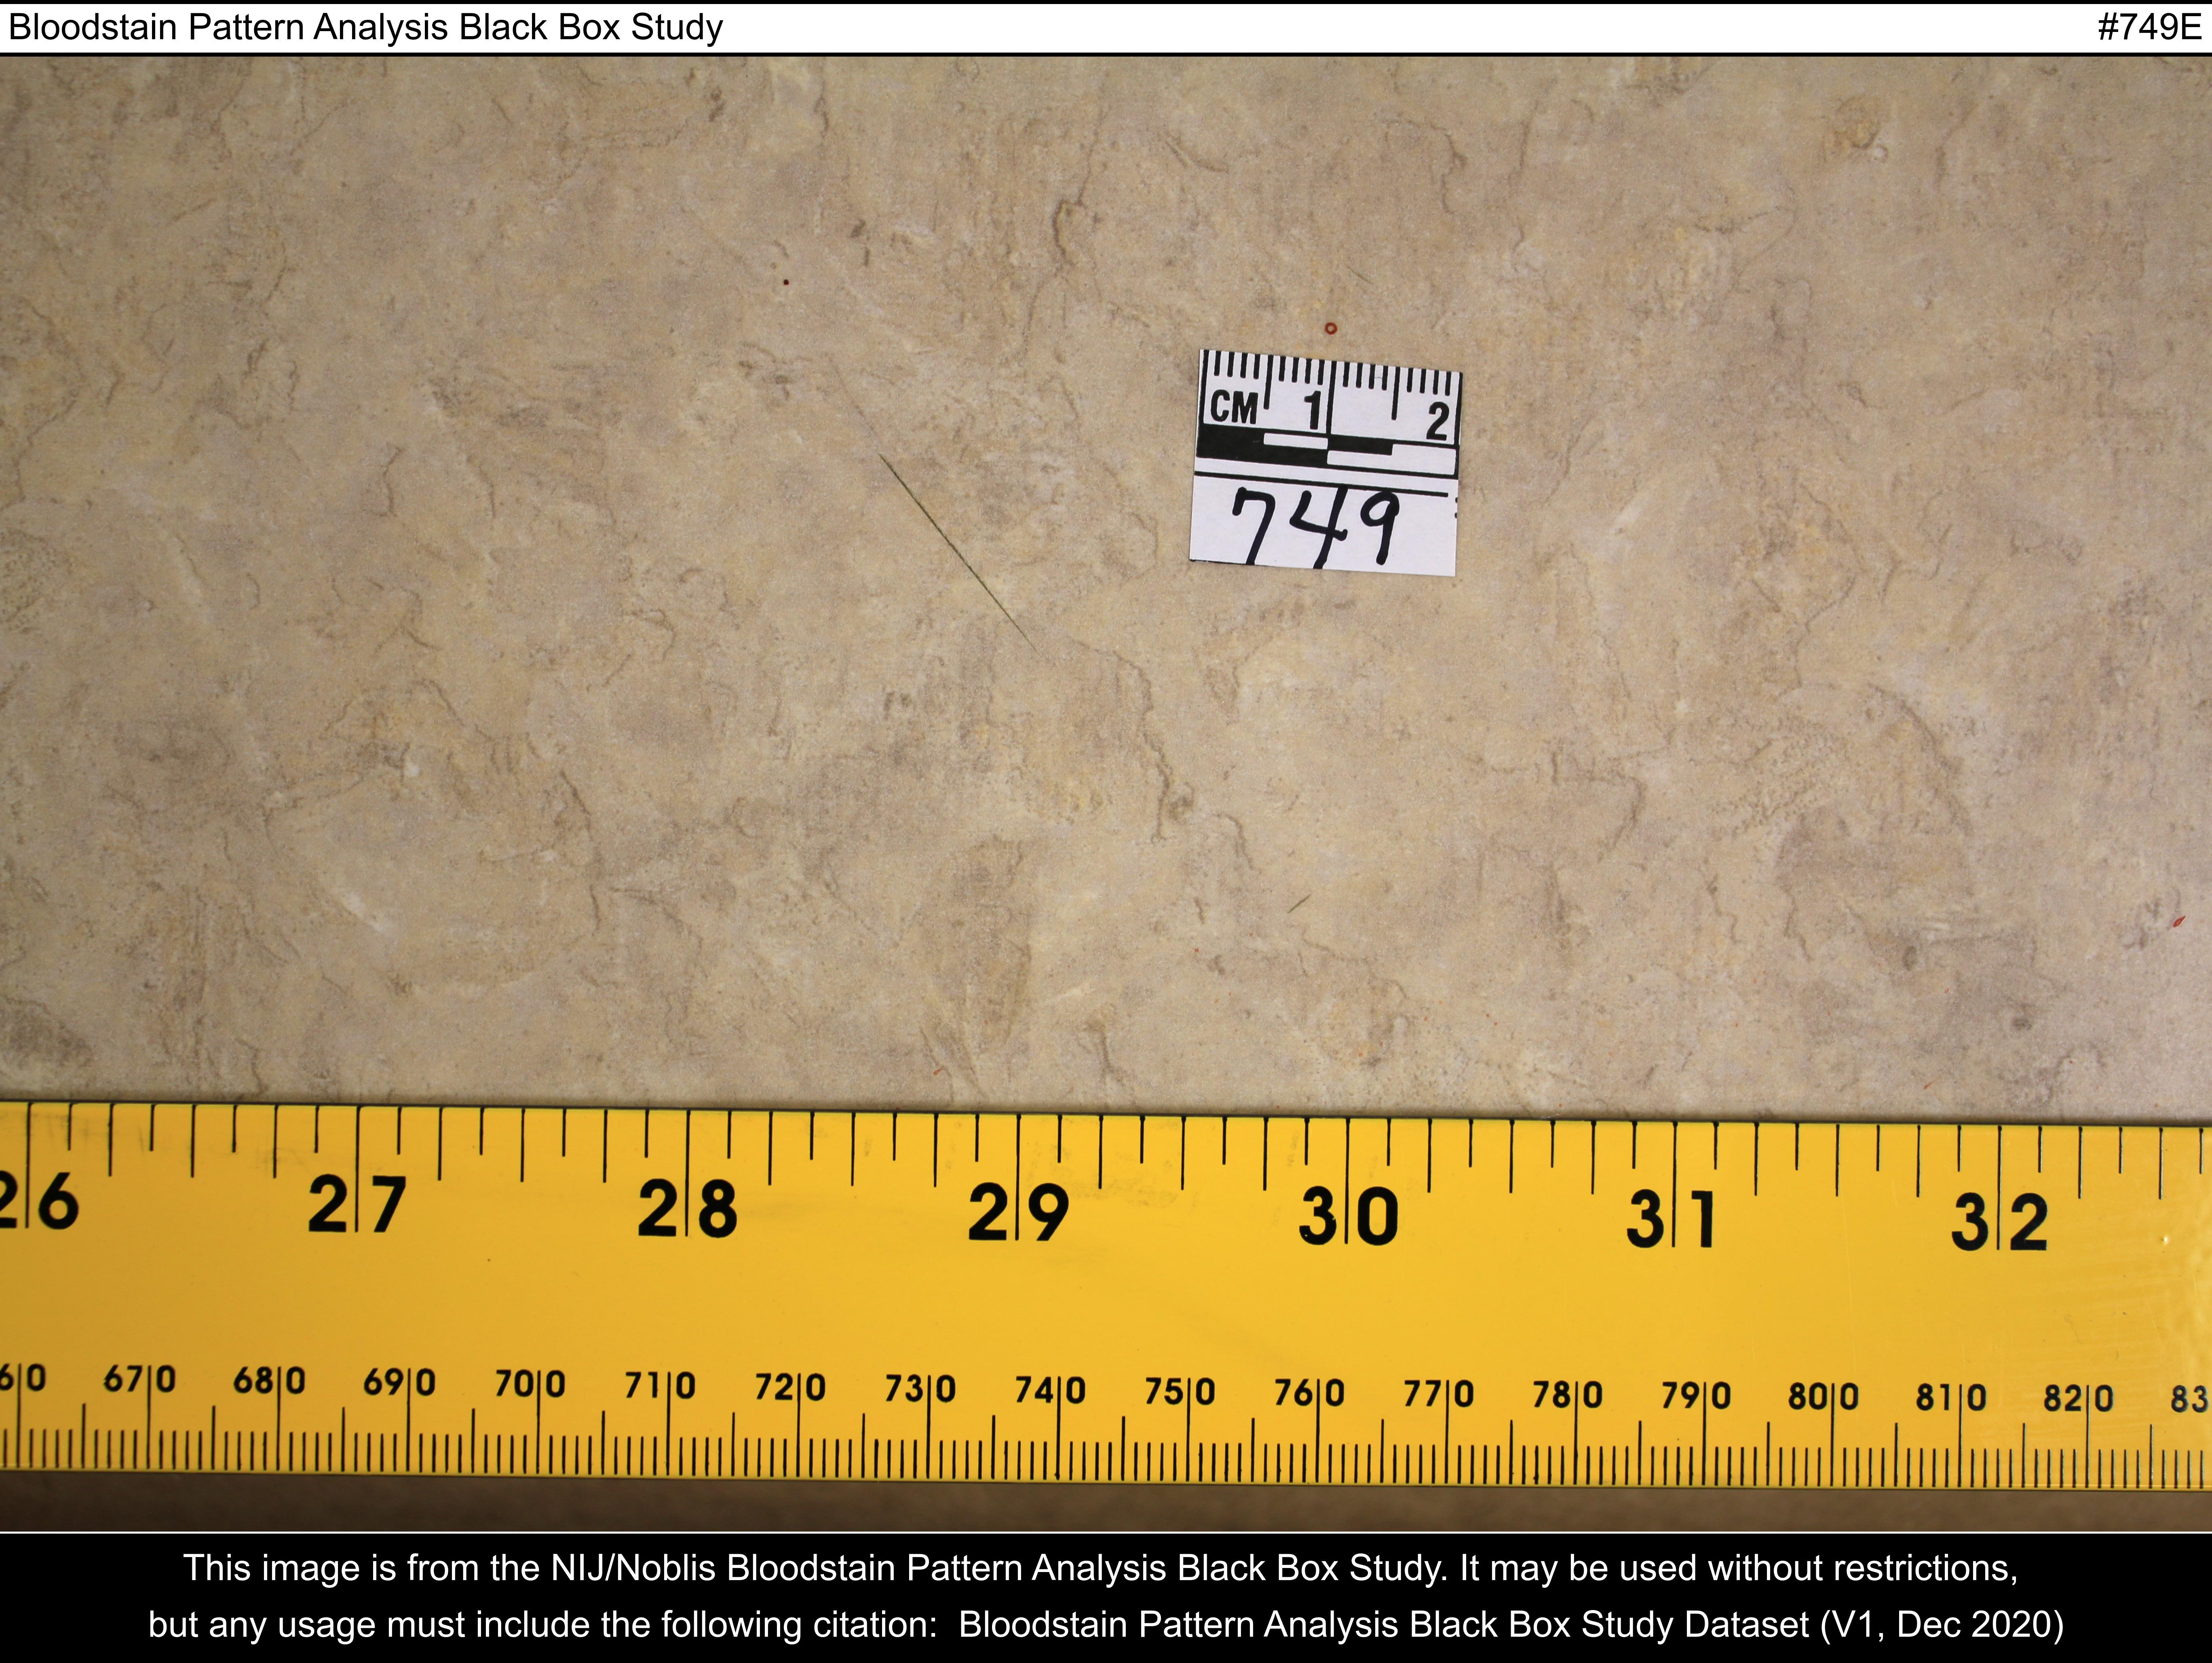Impact: (1278, 283, 1390, 351)
